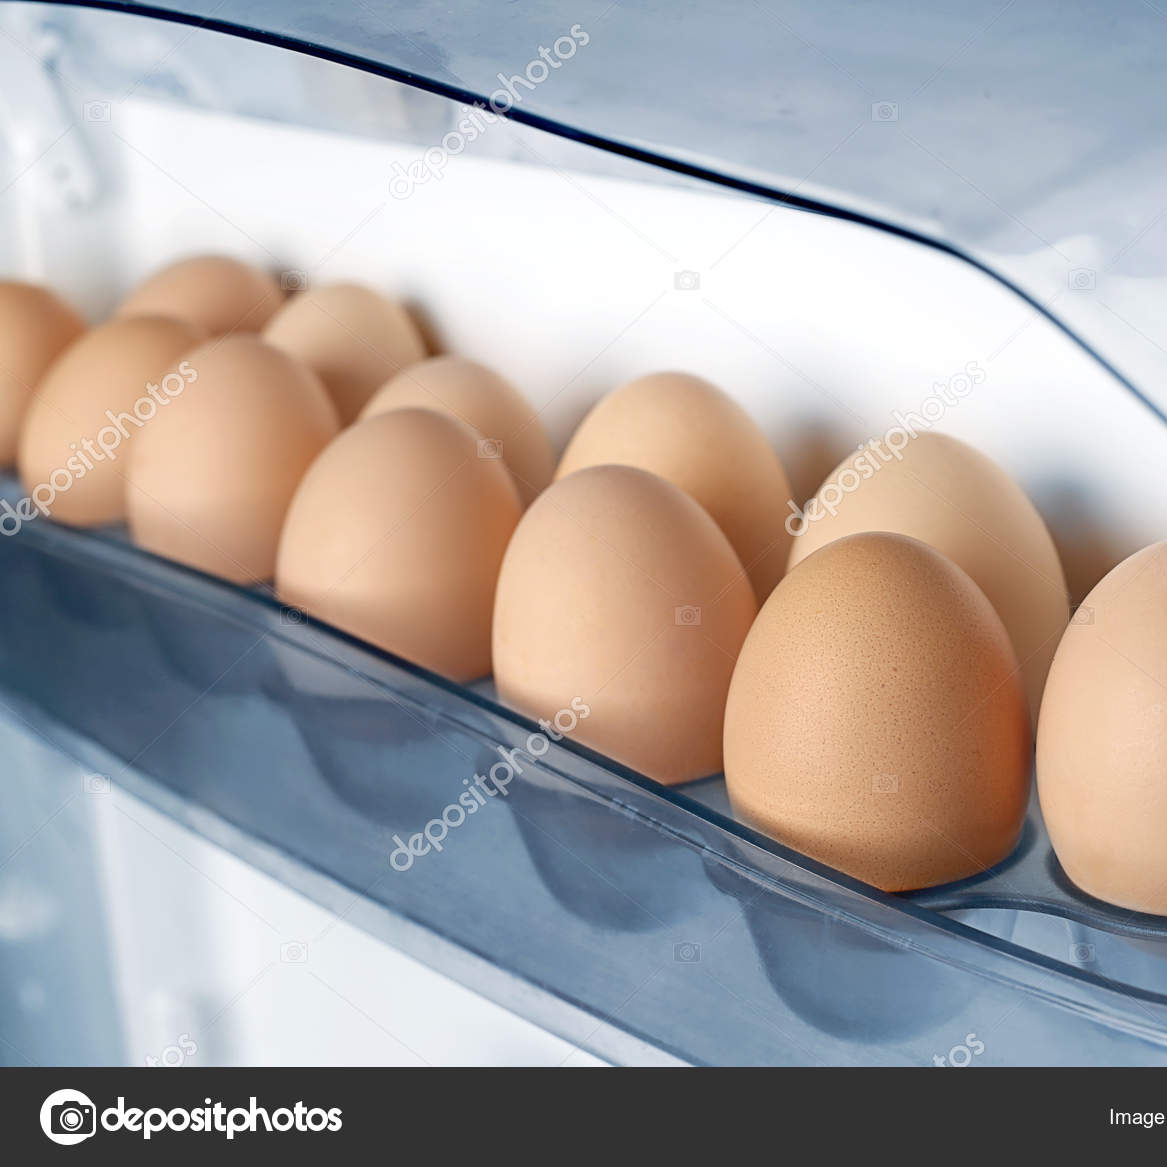egg: (6, 245, 1164, 940)
